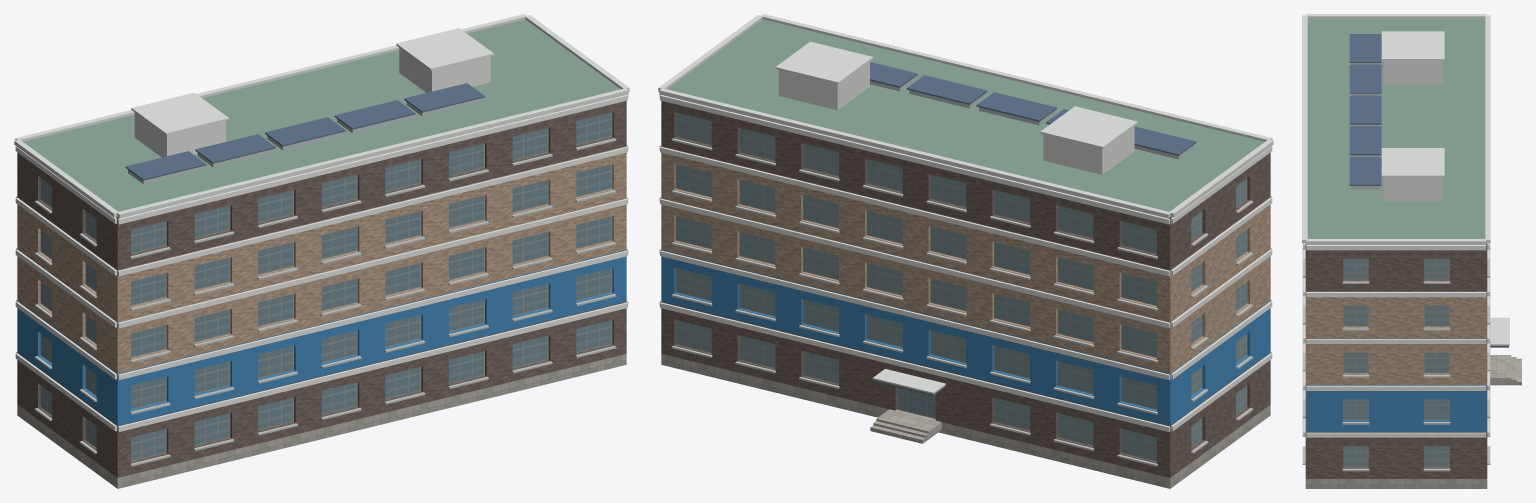
3 renders of one model, left to right at view 1: azimuth 30°, elevation 25°; view 2: azimuth 150°, elevation 25°; view 3: azimuth 270°, elevation 25°, orthographic. The views are drawn at different scales.
Parts seen in each view (by area): view 1: north-wing__buffbrick, north-wing__darkbrick, north-wing__glass, north-wing__roof, north-wing__blue, north-wing__band, north-wing__frame, north-wing__cap, north-wing__stone, north-wing__sill, north-wing__solar, north-wing__panel (+2 smaller); view 2: north-wing__buffbrick, north-wing__darkbrick, north-wing__sideglass, north-wing__roof, north-wing__blue, north-wing__band, north-wing__cap, north-wing__frame, north-wing__sill, north-wing__stone, north-wing__panel, north-wing__solar (+4 smaller); view 3: north-wing__roof, north-wing__darkbrick, north-wing__buffbrick, north-wing__cap, north-wing__blue, north-wing__band, north-wing__sideglass, north-wing__solar, north-wing__panel, north-wing__frame, north-wing__sill, north-wing__stone (+3 smaller).
Boxes of the visible parts, <box> form: north-wing__buffbrick: <box>17,146,626,373</box>; north-wing__darkbrick: <box>17,101,626,477</box>; north-wing__glass: <box>131,113,611,460</box>; north-wing__roof: <box>23,19,620,217</box>; north-wing__blue: <box>17,250,626,425</box>; north-wing__band: <box>15,94,628,431</box>; north-wing__frame: <box>40,112,612,461</box>; north-wing__cap: <box>14,14,629,218</box>; north-wing__stone: <box>17,354,626,488</box>; north-wing__sill: <box>34,138,616,466</box>; north-wing__solar: <box>125,83,484,180</box>; north-wing__panel: <box>134,48,490,157</box>; north-wing__buffbrick: <box>661,146,1270,373</box>; north-wing__darkbrick: <box>661,101,1270,477</box>; north-wing__sideglass: <box>676,113,1246,460</box>; north-wing__roof: <box>667,19,1264,217</box>; north-wing__blue: <box>661,250,1270,425</box>; north-wing__band: <box>659,94,1272,431</box>; north-wing__cap: <box>658,14,1273,393</box>; north-wing__frame: <box>675,112,1247,461</box>; north-wing__sill: <box>671,138,1253,466</box>; north-wing__stone: <box>661,354,1270,488</box>; north-wing__panel: <box>778,61,1134,174</box>; north-wing__solar: <box>870,62,1196,155</box>; north-wing__roof: <box>1305,18,1487,244</box>; north-wing__darkbrick: <box>1305,244,1487,478</box>; north-wing__buffbrick: <box>1305,291,1487,384</box>; north-wing__cap: <box>1302,14,1509,345</box>; north-wing__blue: <box>1305,385,1487,431</box>; north-wing__band: <box>1303,243,1489,437</box>; north-wing__sideglass: <box>1344,258,1448,466</box>; north-wing__solar: <box>1349,34,1381,185</box>; north-wing__panel: <box>1384,60,1442,201</box>; north-wing__frame: <box>1343,258,1449,467</box>; north-wing__sill: <box>1302,243,1490,471</box>; north-wing__stone: <box>1305,479,1487,488</box>.
Size of the model in its own units: 38.5 by 21.58 by 15.72.
Materials: 16 (3 with a texture image).
